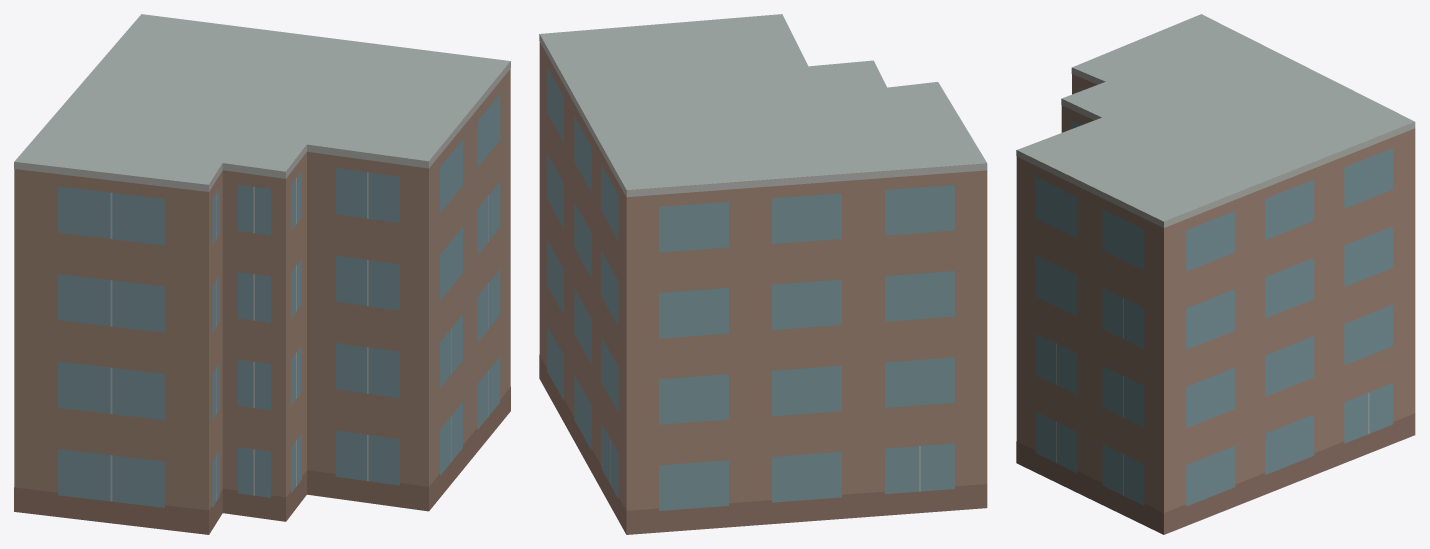
Rendered from survey-upis-32830396.glb.
3 renders of one model, left to right at view 1: azimuth 30°, elevation 25°; view 2: azimuth 150°, elevation 25°; view 3: azimuth 270°, elevation 25°, orthographic. The views are drawn at different scales.
Visible parts, largest first — view 1: survey-upis-32830396.tmp; view 2: survey-upis-32830396.tmp; view 3: survey-upis-32830396.tmp.
Part boxes in pixels (left/top/right/bottom): survey-upis-32830396.tmp: left=14, top=14, right=510, bottom=534; survey-upis-32830396.tmp: left=539, top=14, right=987, bottom=534; survey-upis-32830396.tmp: left=1016, top=14, right=1415, bottom=534.
Size of the model in its own units: 17.02 by 11.96 by 13.81.
